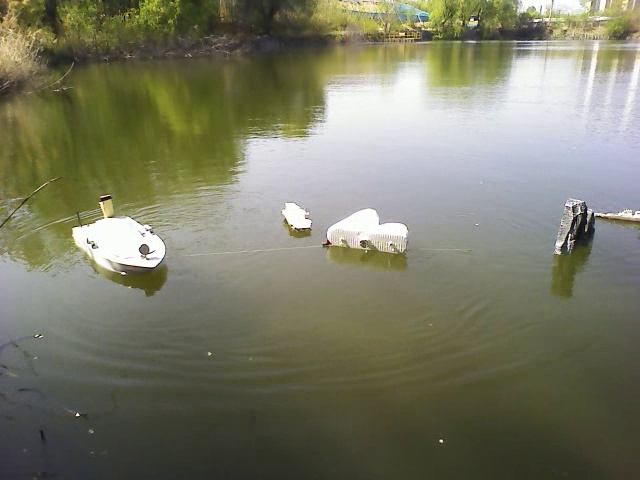aircraft_carrier: (281, 200, 317, 236)
boat: (69, 207, 172, 277)
iceberg: (323, 201, 414, 257)
rock: (555, 184, 601, 259)
warship: (600, 206, 639, 227)
